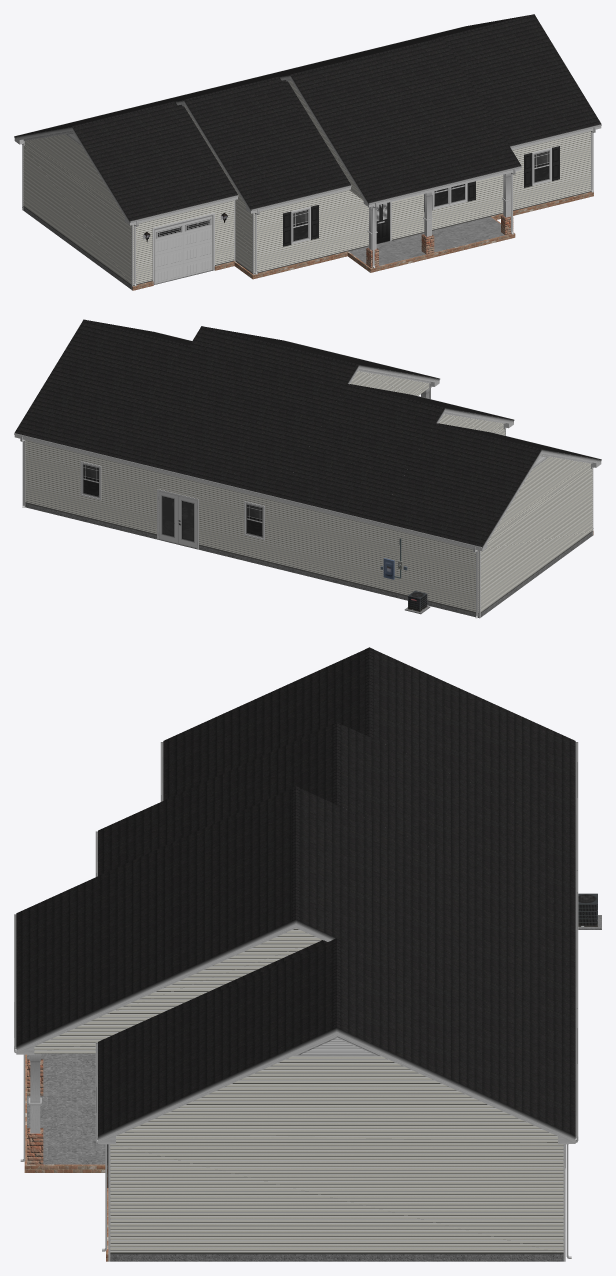
The model's file is house6_mirror1.fbx.
3 renders of one model, top to bottom at view 1: azimuth 30°, elevation 25°; view 2: azimuth 150°, elevation 25°; view 3: azimuth 270°, elevation 25°, orthographic. The views are drawn at different scales.
Visible parts, largest first — view 1: house6_mirror1_LOD0; view 2: house6_mirror1_LOD0; view 3: house6_mirror1_LOD0.
Part boxes in pixels (x1,y1,x2,y2): house6_mirror1_LOD0: [14, 14, 601, 290]; house6_mirror1_LOD0: [14, 319, 601, 618]; house6_mirror1_LOD0: [14, 647, 601, 1261].
Size of what is drawn, in the model's own units: 5.73 by 1.74 by 3.61.
